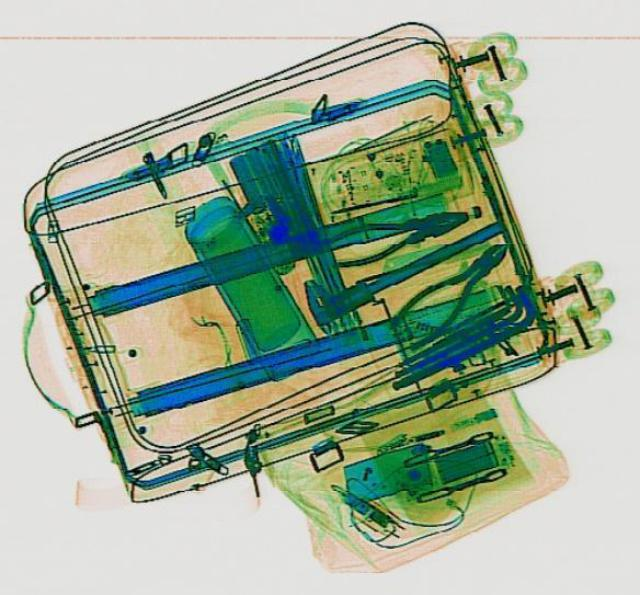Pliers: (380, 227, 522, 352), (317, 195, 473, 273)
